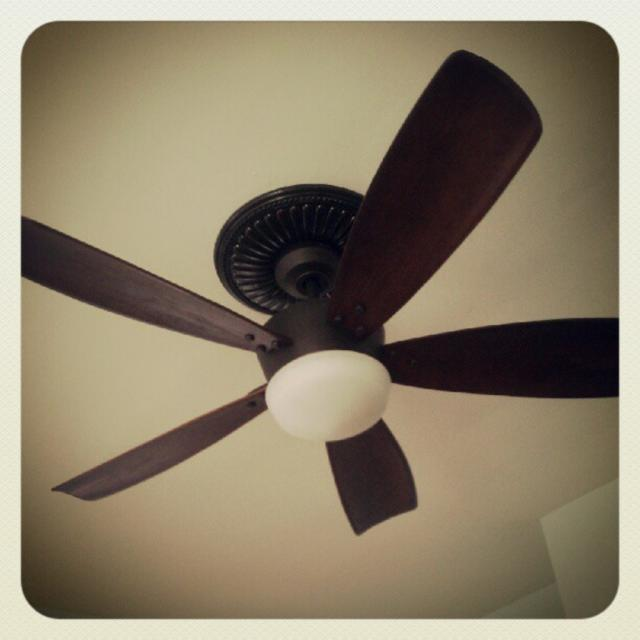Bulb: (21, 49, 619, 536)
